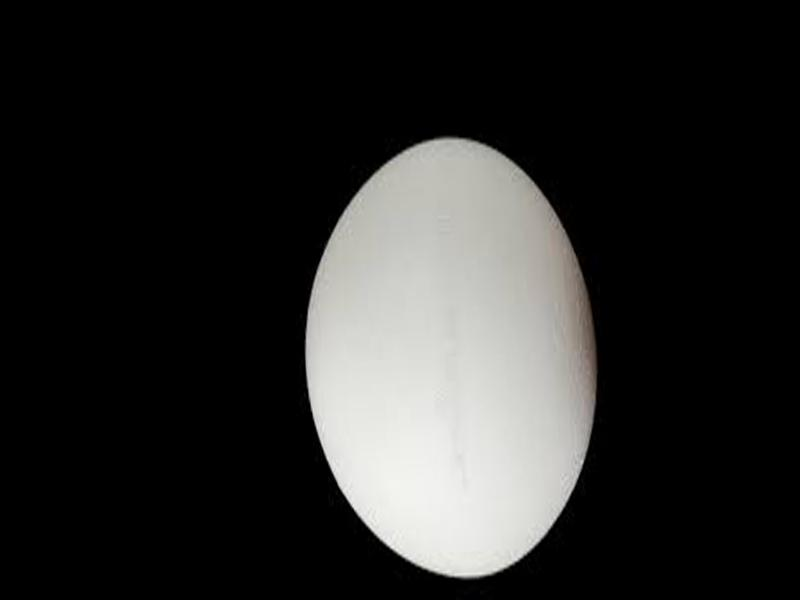Eggs: (297, 132, 607, 586)
